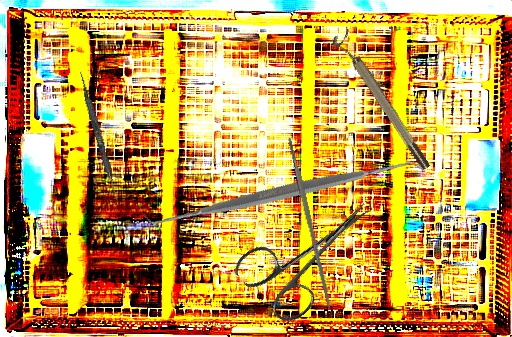Fixation Ring: (330, 28, 433, 176)
Iris Scissors: (229, 173, 394, 331)
Scalpel Handle: (286, 135, 334, 312)
Spatula Surgical: (141, 49, 427, 337), (75, 70, 123, 206)
